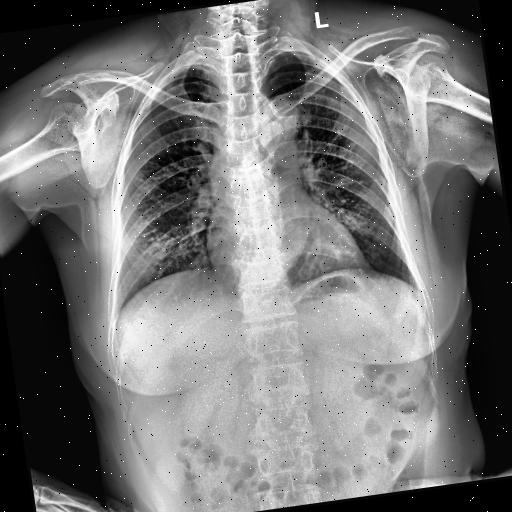0- Aortic enlargement: (248, 91, 304, 160), (251, 92, 303, 141), (258, 92, 302, 142)
11- Pleural thickening: (167, 62, 204, 78)
3- Cardiomegaly: (202, 202, 372, 290), (202, 204, 368, 294)
